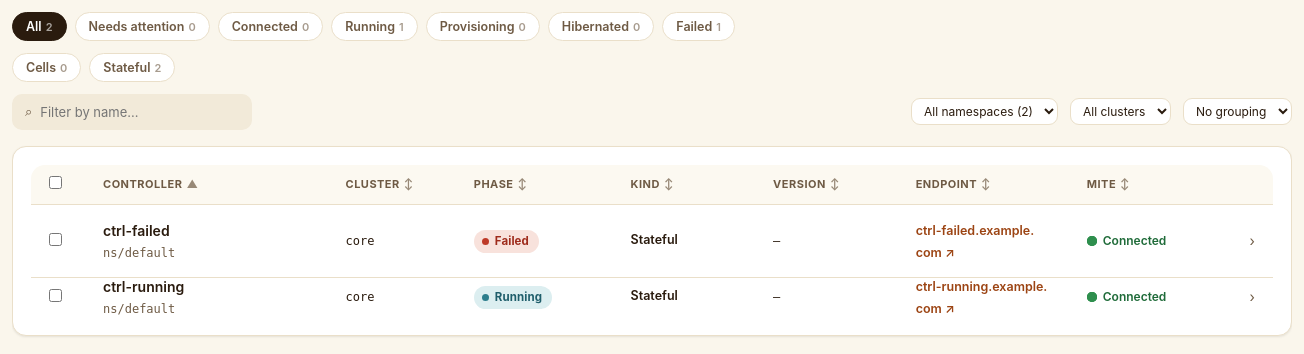
Scenario: BroodControllerPicker › Phase filter › filters controllers by phase when chip is clicked
Click the button "Failed 1" at {"x": 699, "y": 26}, box [662,12,735,41]
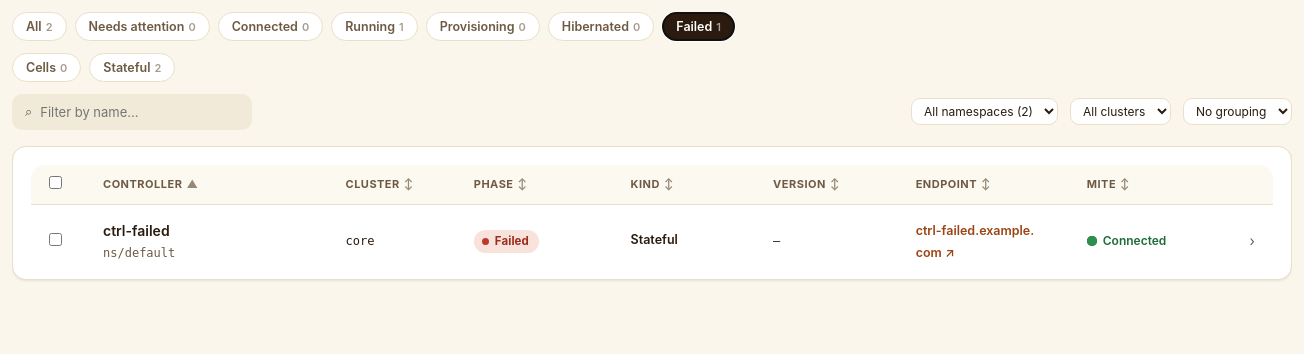
Expected: the text "ctrl-failed" is shown, [103,220,175,241]
Expected: the button "ctrl-running" is gone
